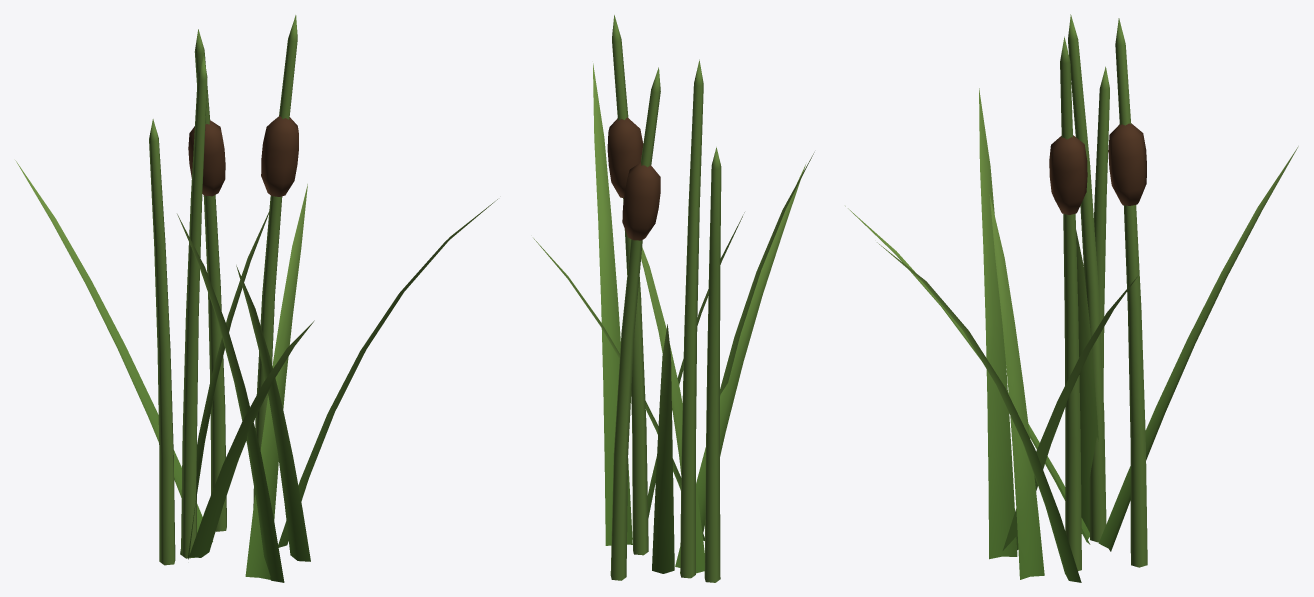
The model's file is decor_roseau_toutes_2.glb.
The picture shows the model from 3 angles, left to right: view 1: azimuth 30°, elevation 25°; view 2: azimuth 150°, elevation 25°; view 3: azimuth 270°, elevation 25°; orthographic projection. The views are drawn at different scales.
Parts seen in each view (by area): view 1: herbe, epis; view 2: herbe, epis; view 3: herbe, epis.
Part boxes in pixels (x1,y1,x2,y2): herbe: [15, 15, 497, 582]; epis: [188, 116, 298, 196]; herbe: [533, 15, 814, 582]; epis: [607, 117, 660, 240]; herbe: [845, 14, 1298, 582]; epis: [1049, 123, 1146, 214].
Bounding box in the file's own units: 0.1587 × 0.2863 × 0.2157.
